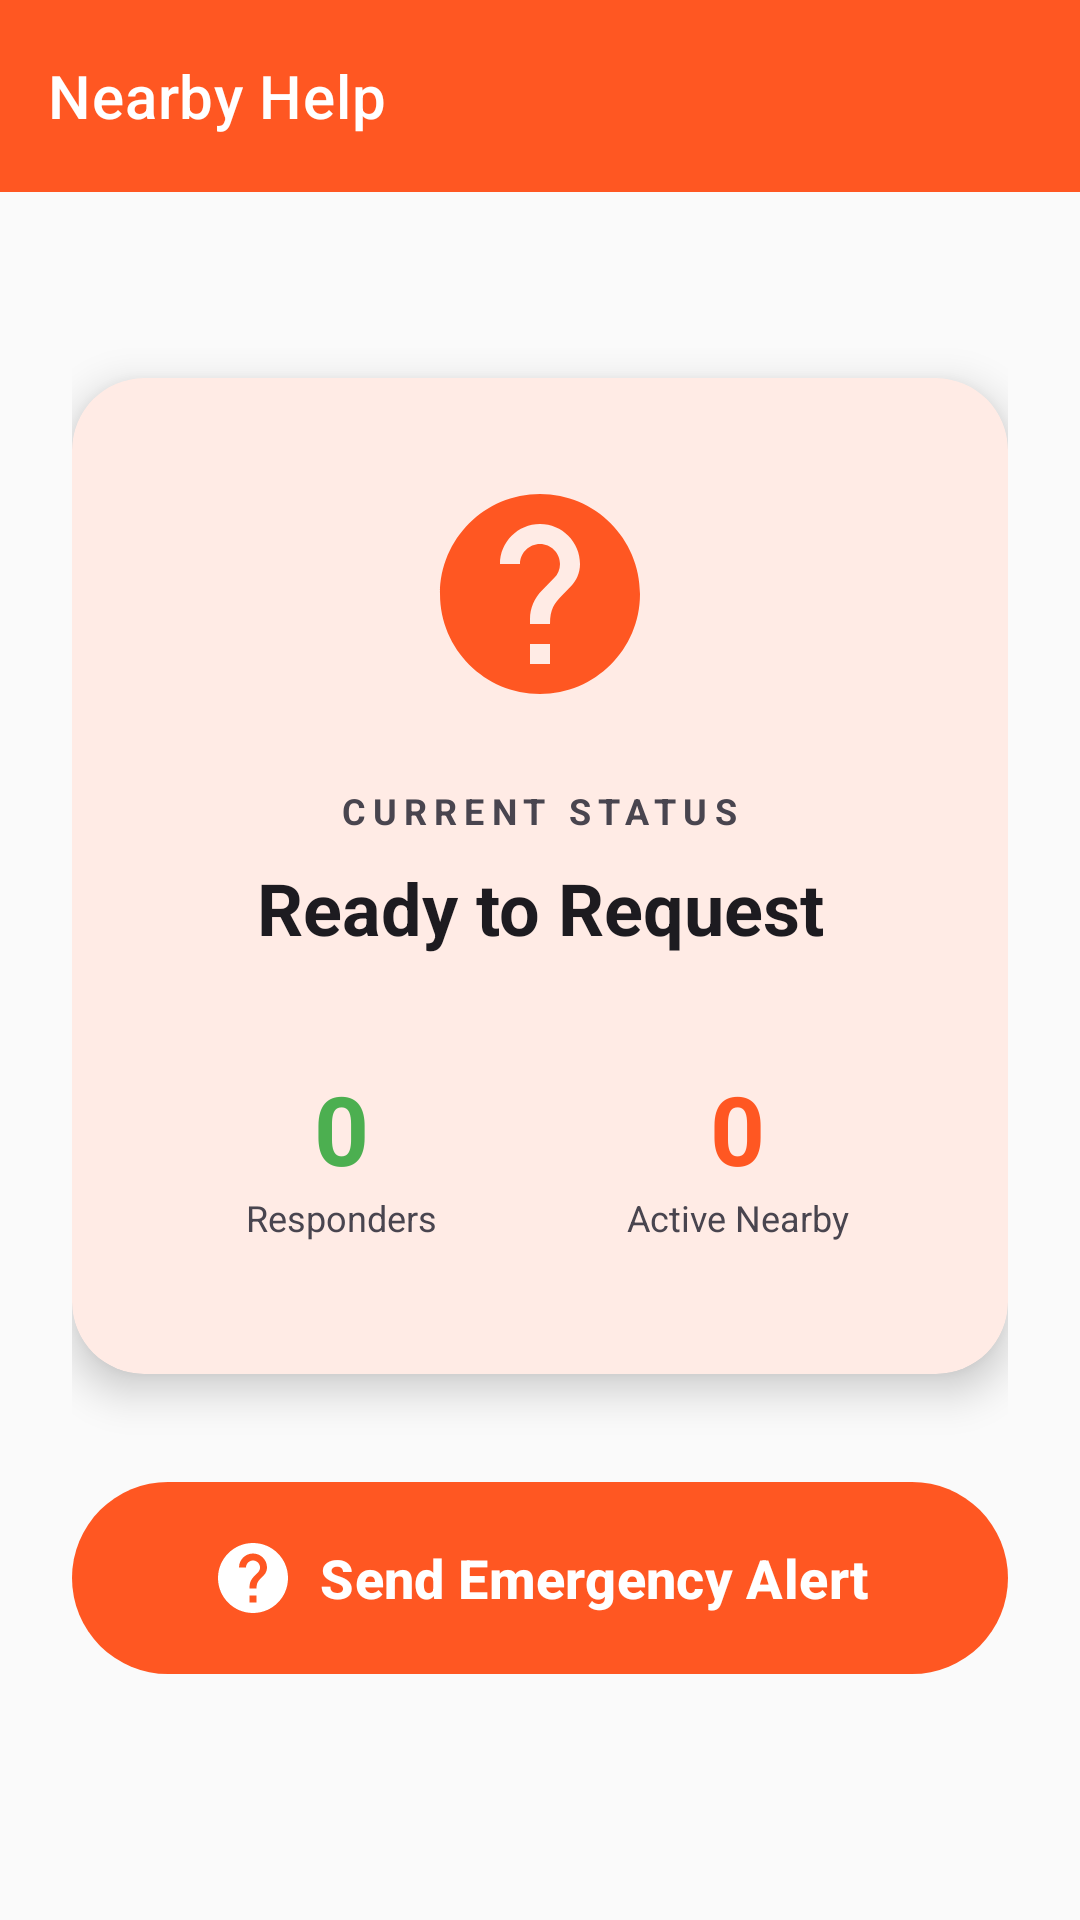

Icons on this 1080 × 1920 Android screen, each with its box as bbox=[x1, y1, x2, y2]:
help: bbox=[440, 494, 640, 694]
